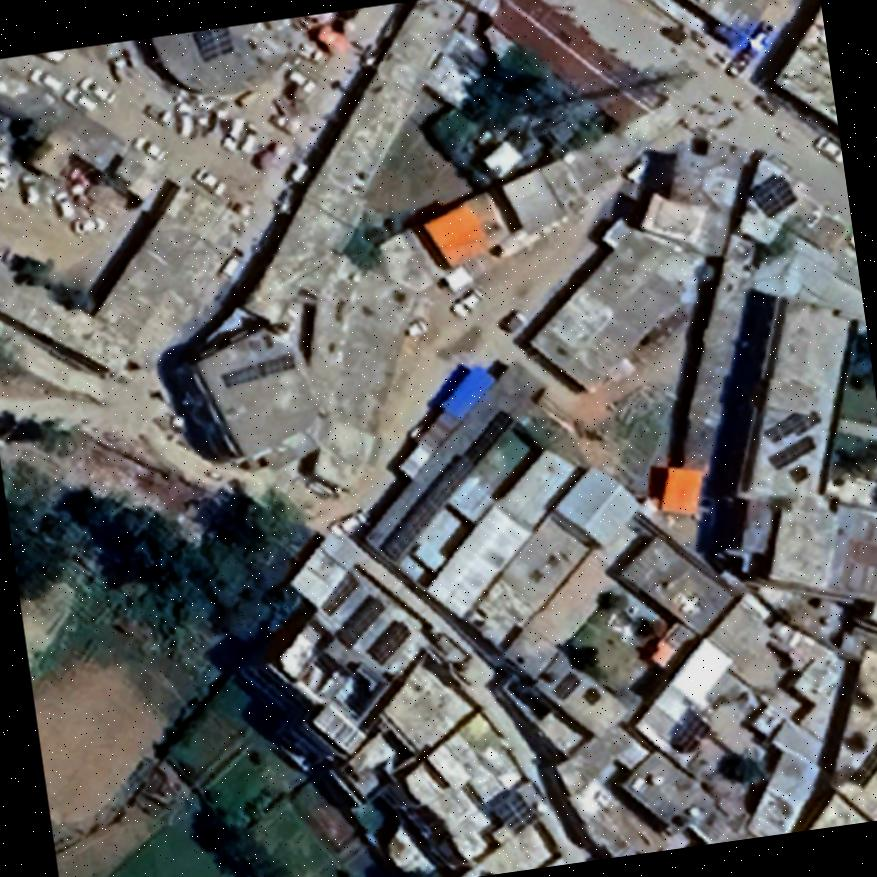Solarpanel: (374, 407, 516, 560), (328, 590, 389, 650), (218, 350, 298, 386), (360, 616, 412, 666), (746, 169, 797, 219), (315, 570, 362, 616), (764, 432, 818, 470), (758, 408, 810, 443), (190, 25, 233, 60)
